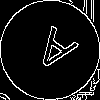A: (25, 25, 79, 82)
